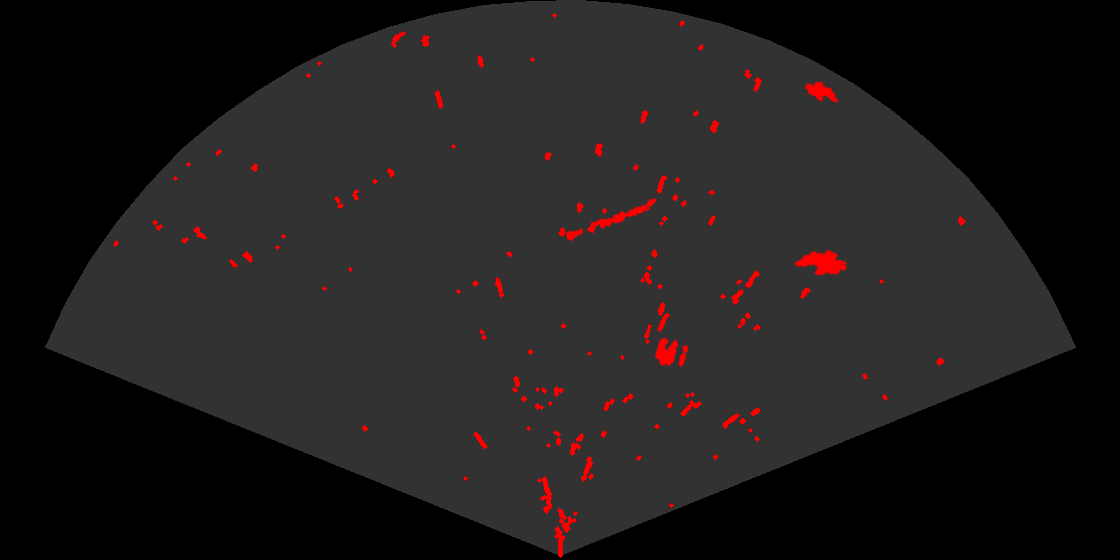AUV: (793, 248, 849, 277), (803, 80, 840, 104)
ball: (653, 336, 690, 369)
chain: (564, 197, 658, 243)
